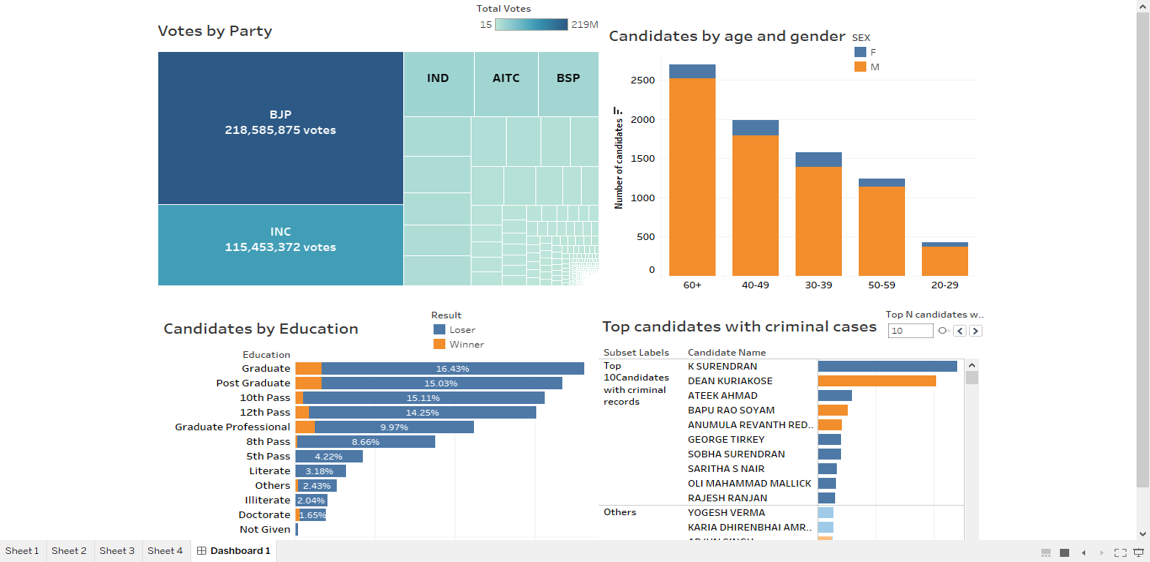

The dashboard page shown, as its layout file describes it:
{"tool":"tableau","page":{"name":"Candidate_Analysis","canvas":[1000,800],"ordinal":0},"visuals":[{"type":"title","box":[5,13,988,36]},{"type":"worksheet","title":"Candidates_criminal_cases","mark":"Bar","rows":["Top N candidates by criminal records","Calculation_1139973668131340289","CANDIDATE_NAME"],"cols":["NO_PENDING_CRIMINAL_CASES"],"box":[543,57,452,358]},{"type":"worksheet","title":"Votes_by_party","mark":"Automatic","box":[7,58,527,390]},{"type":"legend","title":"Votes_by_party","param":"[federated.01cosm60t3ytcg1dfaq2p0ejtrwo].[sum:TOTAL_VOTES:qk]","box":[278,68,239,36]},{"type":"legend","title":"Candidates_criminal_cases","param":"[federated.01cosm60t3ytcg1dfaq2p0ejtrwo].[none:Calculation_1139973668124717056:n","box":[714,413,259,66]},{"type":"parameter","param":"[Parameters].[Parameter 1]","box":[547,416,160,67]},{"type":"legend","title":"Candidates_education","param":"[federated.01cosm60t3ytcg1dfaq2p0ejtrwo].[none:Calculation_1139973668124717056:n","box":[277,437,204,64]},{"type":"worksheet","title":"Candidates_education","mark":"Automatic","rows":["EDUCATION"],"box":[4,467,509,331]},{"type":"worksheet","title":"Candidate_age_gender","mark":"Automatic","rows":["Number of Records"],"cols":["Calculation_530861818884489216"],"box":[511,481,484,312]},{"type":"legend","title":"Candidate_age_gender","param":"[federated.01cosm60t3ytcg1dfaq2p0ejtrwo].[none:SEX:nk]","box":[850,530,140,58]}]}

Visuals, with their boxes on the page's 1000x800 design canvas (x1, y1, x2, y2). These are canvas units, not pixel positions in the 1150x562 screenshot, which may show the page scaled, cropped or inside an application window:
title: left=5, top=13, right=993, bottom=49
"Candidates_criminal_cases" worksheet (Bar marks): left=543, top=57, right=995, bottom=415
"Votes_by_party" worksheet: left=7, top=58, right=534, bottom=448
"Votes_by_party" legend: left=278, top=68, right=517, bottom=104
"Candidates_criminal_cases" legend: left=714, top=413, right=973, bottom=479
parameter: left=547, top=416, right=707, bottom=483
"Candidates_education" legend: left=277, top=437, right=481, bottom=501
"Candidates_education" worksheet: left=4, top=467, right=513, bottom=798
"Candidate_age_gender" worksheet: left=511, top=481, right=995, bottom=793
"Candidate_age_gender" legend: left=850, top=530, right=990, bottom=588
